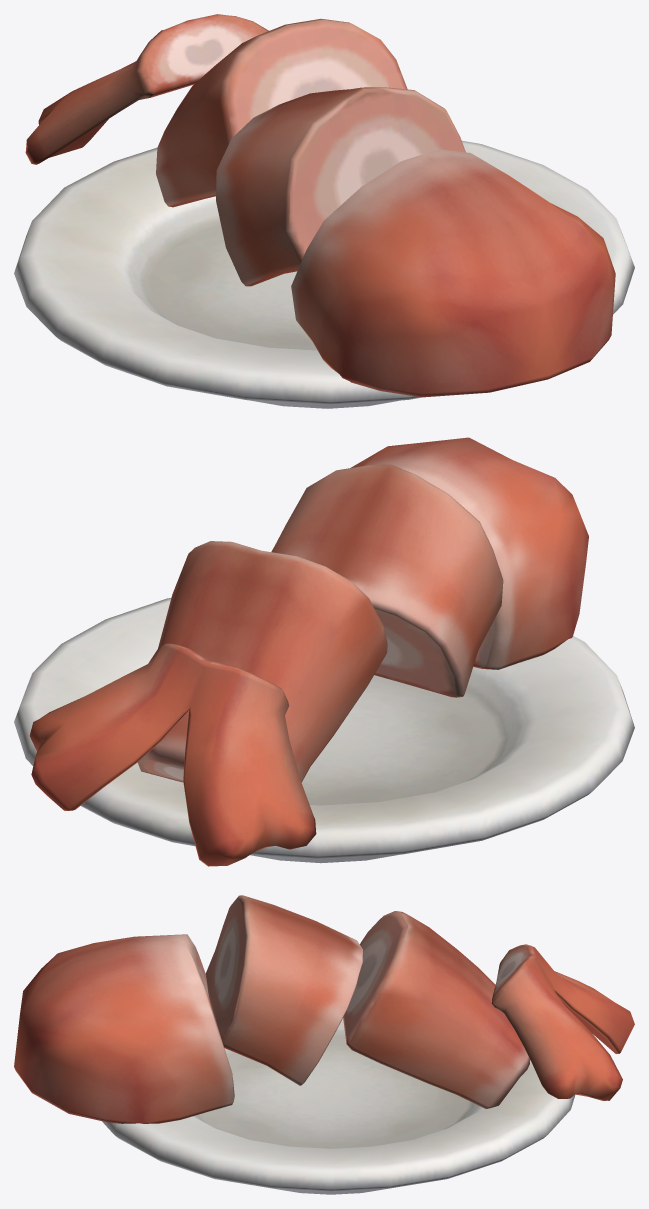
Rendered from PlatePrawnSushi2.FBX.
3 renders of one model, top to bottom at view 1: azimuth 30°, elevation 25°; view 2: azimuth 150°, elevation 25°; view 3: azimuth 270°, elevation 25°, orthographic. The views are drawn at different scales.
Visible parts, largest first — view 1: m_ingredients_prawn_sliced_diced_01_0, Plate_Mesh_0; view 2: m_ingredients_prawn_sliced_diced_01_0, Plate_Mesh_0; view 3: m_ingredients_prawn_sliced_diced_01_0, Plate_Mesh_0.
Part boxes in pixels (bbox=[...]): m_ingredients_prawn_sliced_diced_01_0: bbox=[25, 14, 615, 397]; Plate_Mesh_0: bbox=[14, 140, 634, 408]; m_ingredients_prawn_sliced_diced_01_0: bbox=[29, 437, 588, 866]; Plate_Mesh_0: bbox=[14, 598, 634, 863]; m_ingredients_prawn_sliced_diced_01_0: bbox=[14, 895, 634, 1123]; Plate_Mesh_0: bbox=[102, 1018, 575, 1194].
Bounding box in the file's own units: 0.7905 × 0.4173 × 0.9916.
